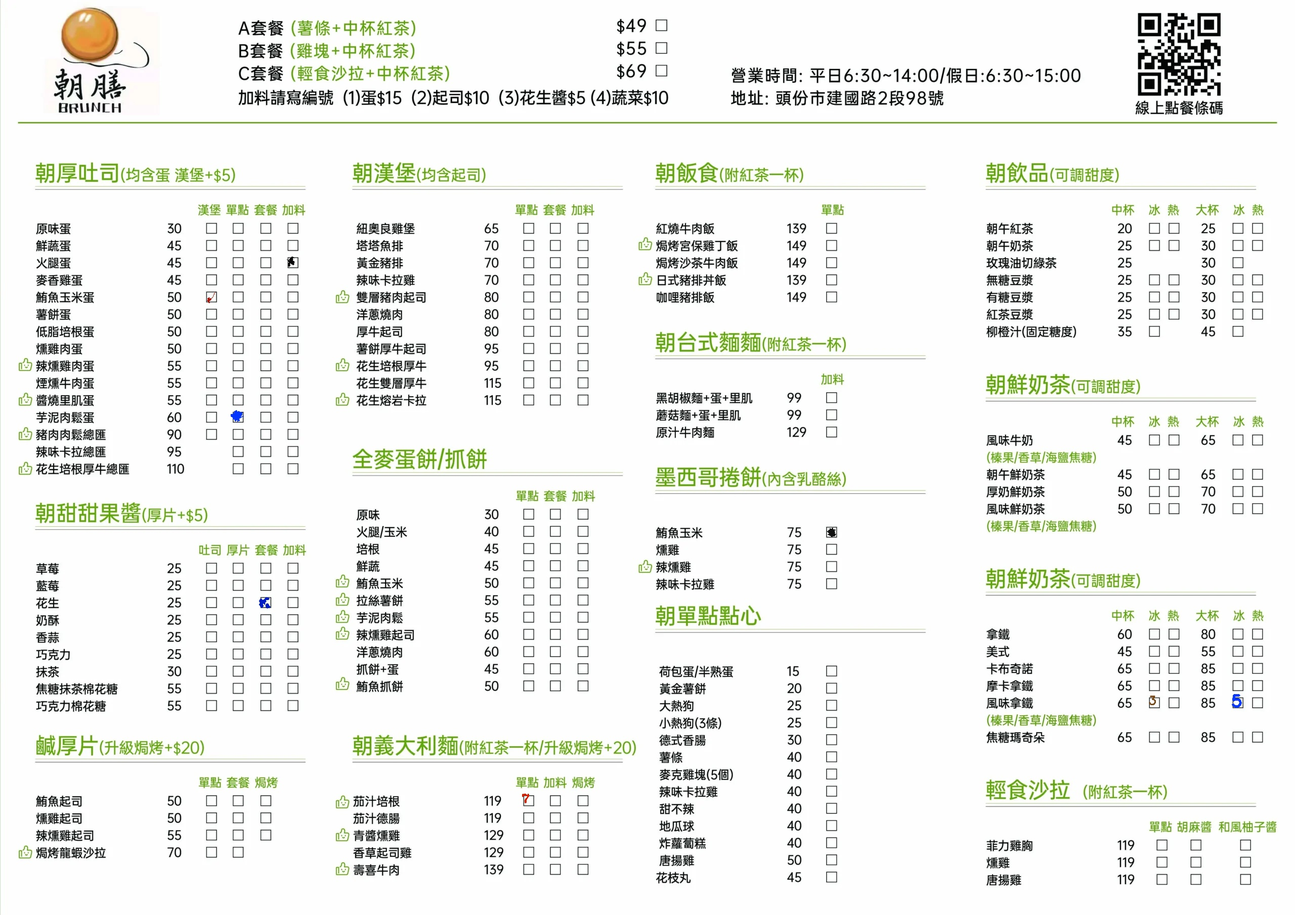marked_circle: (232, 411, 243, 422), (826, 527, 837, 537)
marked_number_3: (1148, 697, 1159, 707)
marked_number_5: (1232, 698, 1243, 708)
marked_number_7: (523, 796, 534, 806)
marked_tick: (205, 292, 217, 302)
marked_x: (260, 598, 271, 608), (286, 257, 297, 267)
